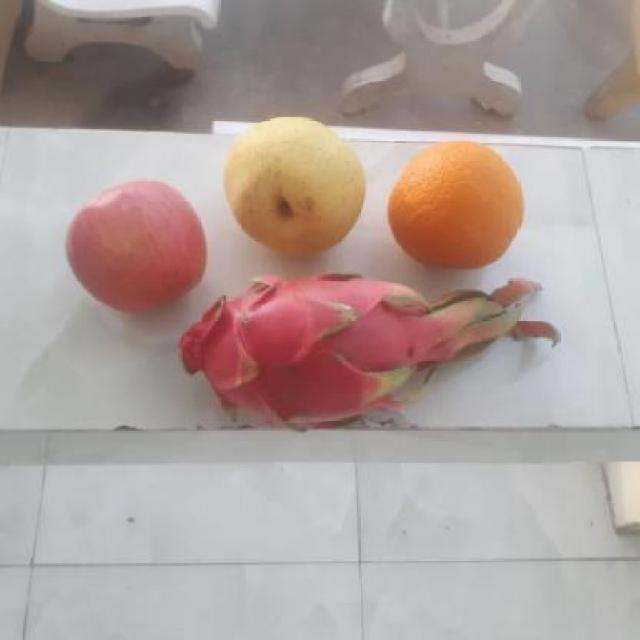apple: (63, 179, 206, 310)
dragon fruit: (156, 270, 435, 430)
oren: (383, 140, 526, 268)
pear: (216, 118, 369, 256)
